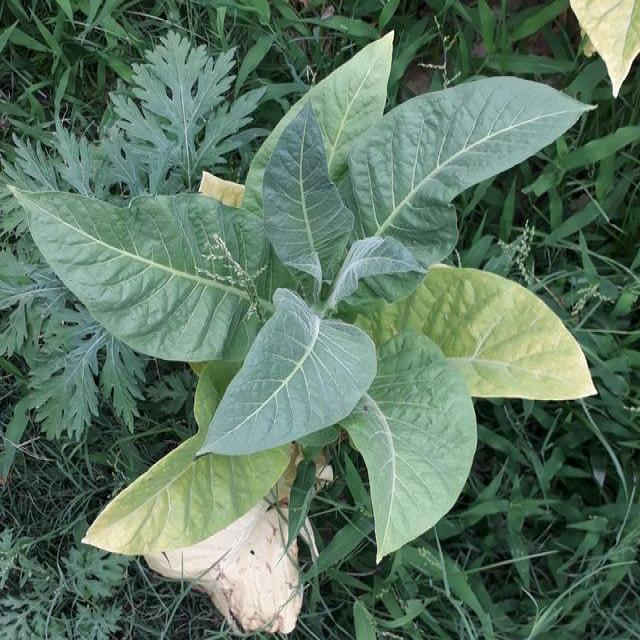crop: (35, 42, 592, 539)
